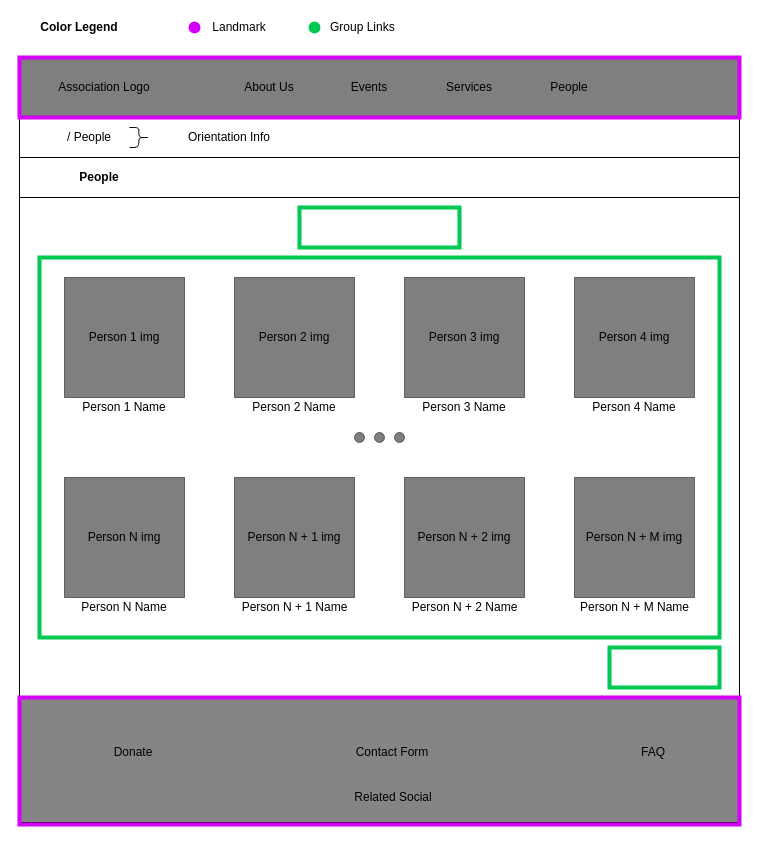
Some shapes in this 758 by 843 pixel diagram are drawn without their labels. The centre of each missing label's shape, as x and y in pixels:
Filter Person per Name: point 379,227
Page Number: point 664,667
